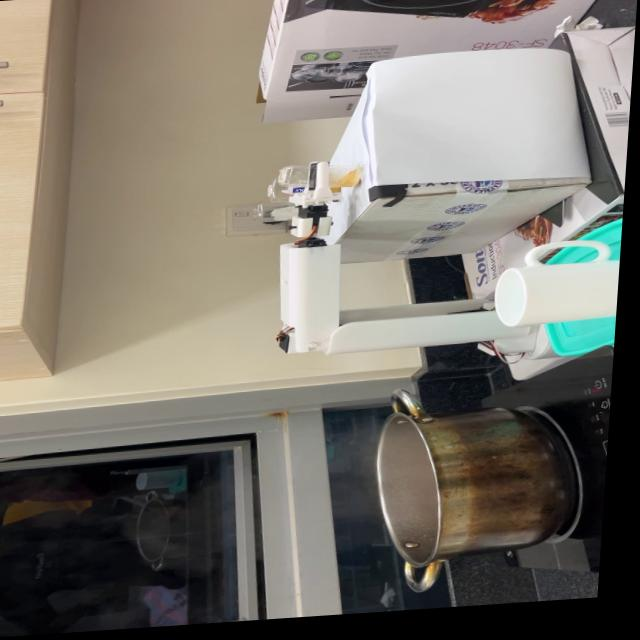cooking_pot: (375, 380, 584, 598)
garlic_powder: (333, 173, 367, 194)
